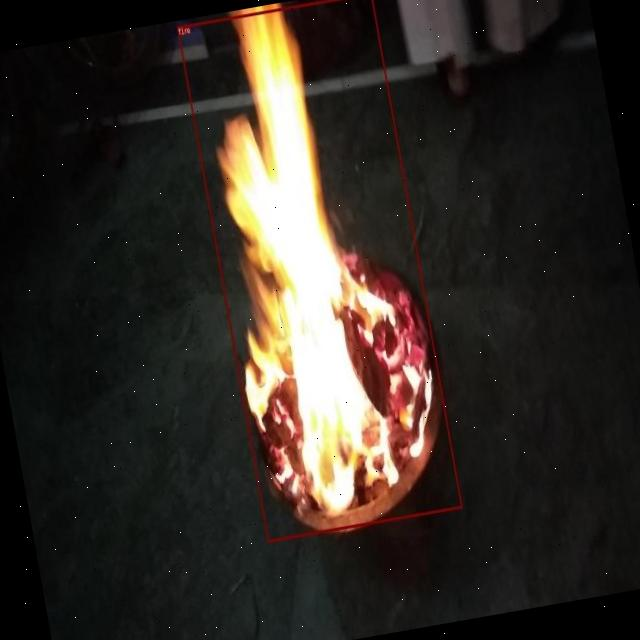fire: (175, 0, 461, 541)
